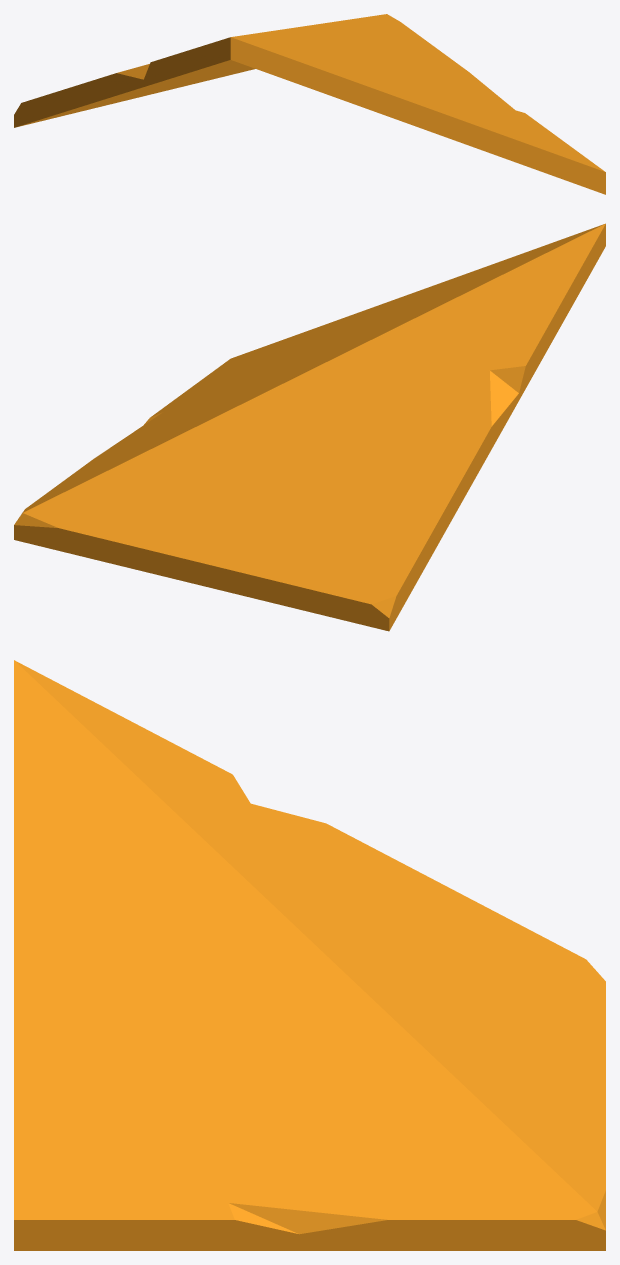
File: SM_Buildings_RoofAngledCornerOuter_2x2_01P.fbx
The picture shows the model from 3 angles, top to bottom: view 1: azimuth 30°, elevation 25°; view 2: azimuth 150°, elevation 25°; view 3: azimuth 270°, elevation 25°; orthographic projection. The views are drawn at different scales.
Visible parts, largest first — view 1: SM_Buildings_RoofAngledCornerOuter_2x2_01P; view 2: SM_Buildings_RoofAngledCornerOuter_2x2_01P; view 3: SM_Buildings_RoofAngledCornerOuter_2x2_01P.
Boxes of the visible parts, <box> form: SM_Buildings_RoofAngledCornerOuter_2x2_01P: <box>14,14,605,194</box>; SM_Buildings_RoofAngledCornerOuter_2x2_01P: <box>14,223,605,631</box>; SM_Buildings_RoofAngledCornerOuter_2x2_01P: <box>14,660,605,1250</box>.
Bounding box in the file's own units: 200 × 127 × 200.
